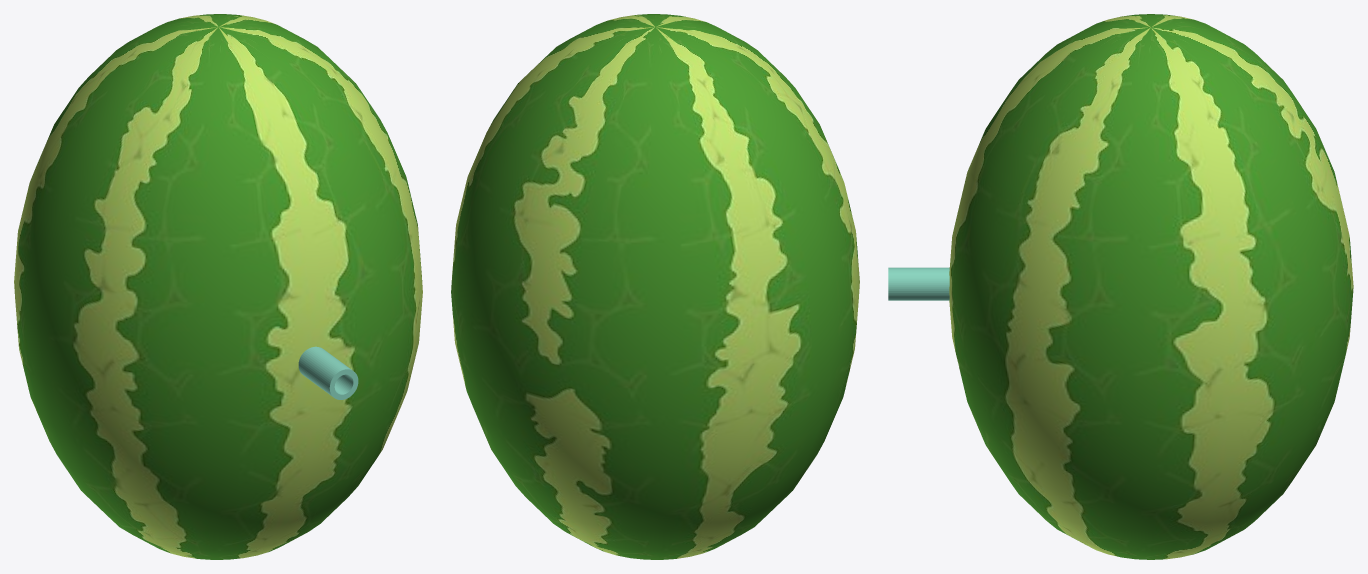
File: KarpuzTower2.fbx
The picture shows the model from 3 angles, left to right: view 1: azimuth 30°, elevation 25°; view 2: azimuth 150°, elevation 25°; view 3: azimuth 270°, elevation 25°; orthographic projection.
Parts seen in each view (by area): view 1: Karpuz, Namlu; view 2: Karpuz; view 3: Karpuz, Namlu.
Boxes of the visible parts, left/top/right/bottom form: Karpuz: left=14, top=14, right=422, bottom=559; Namlu: left=298, top=346, right=358, bottom=399; Karpuz: left=451, top=14, right=859, bottom=559; Karpuz: left=949, top=14, right=1353, bottom=559; Namlu: left=888, top=267, right=949, bottom=300.
Bounding box in the file's own units: 248 × 346 × 281.
